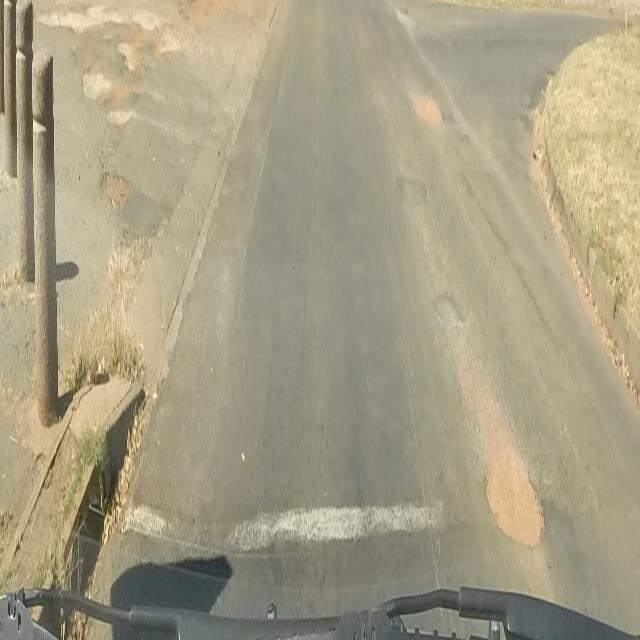pothole: (481, 436, 546, 550), (96, 167, 140, 211), (414, 88, 443, 130)
